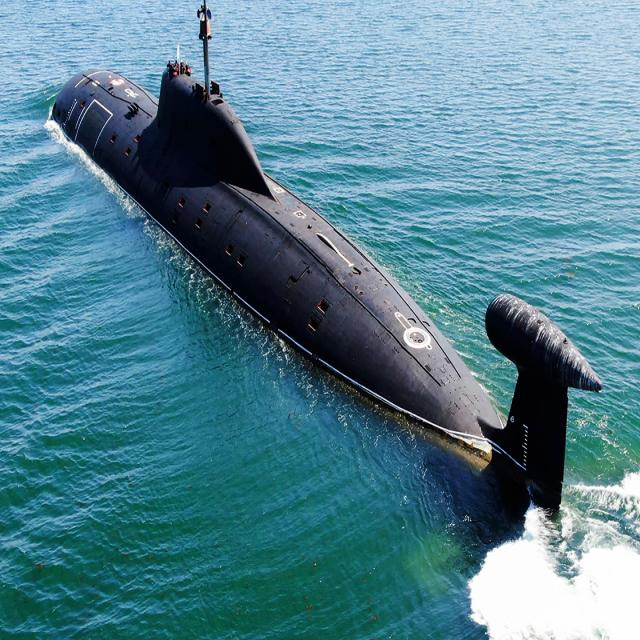submarine: (48, 5, 609, 548)
